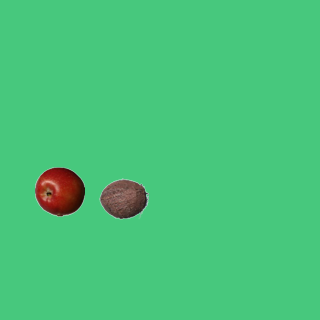Apple Braeburn: (34, 166, 84, 216)
Cocos: (98, 173, 148, 223)
